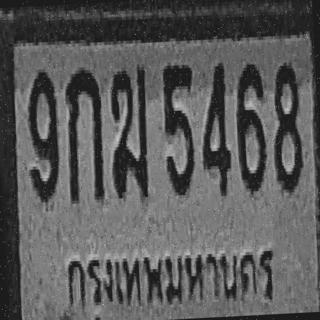A01: (63, 68, 106, 202)
A06: (108, 64, 152, 198)
N04: (198, 60, 232, 197)
N05: (161, 62, 198, 196)
N06: (234, 61, 268, 192)
N08: (270, 60, 304, 192)
N09: (25, 69, 61, 203)
P04: (59, 235, 280, 315)
